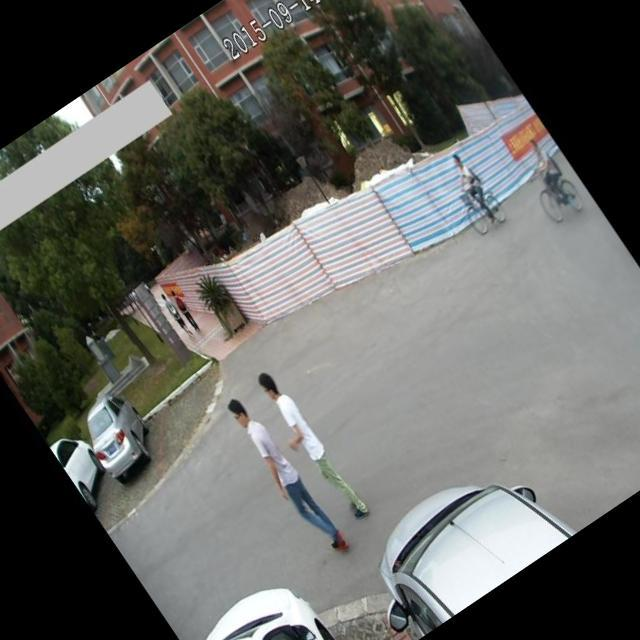person: (218, 386, 359, 574), (244, 362, 374, 532), (441, 148, 494, 208), (516, 132, 568, 191), (165, 284, 208, 338), (157, 290, 196, 342)
